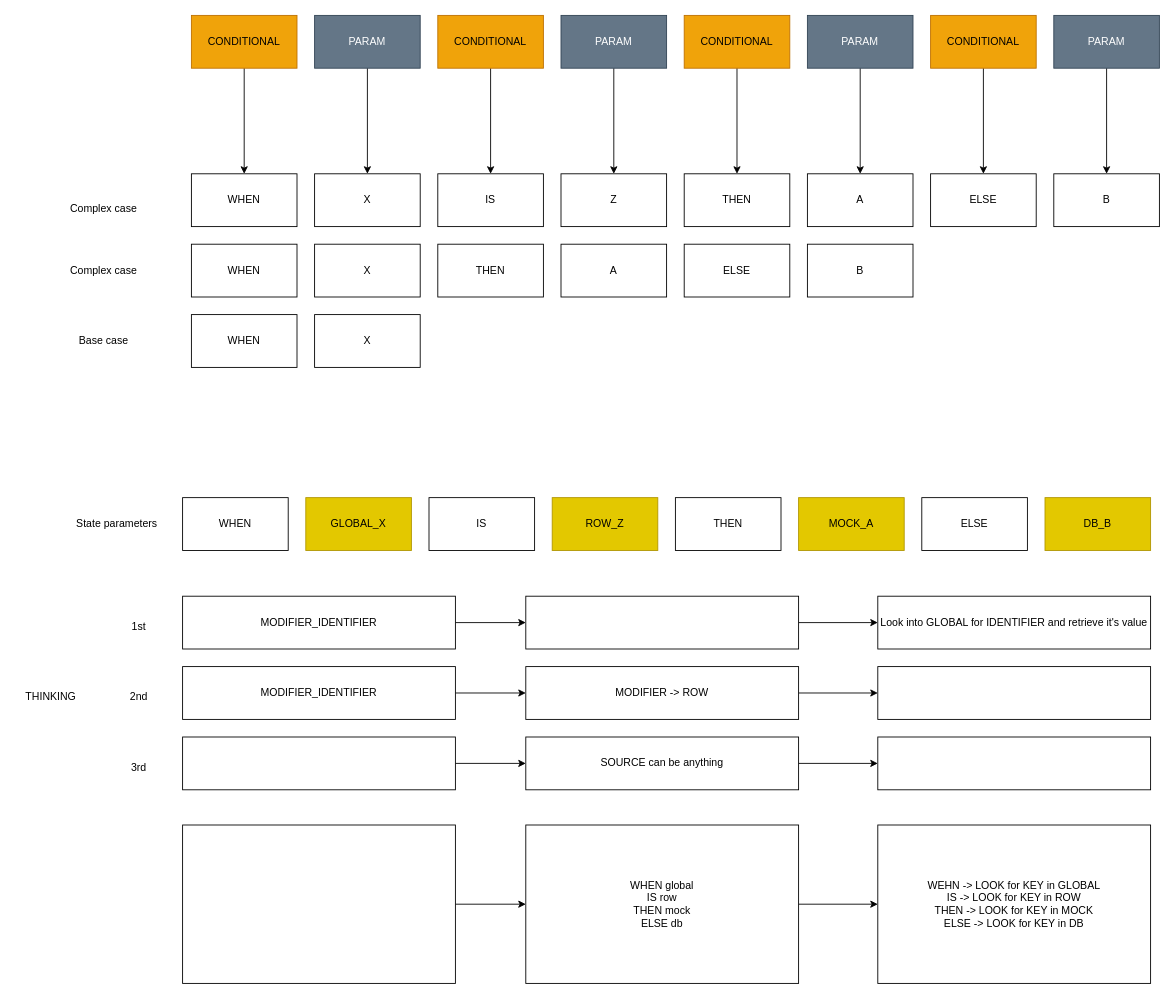
Image size: 1175x999. Some labels were removed from this diagram. Each missing label, with the box of its shape:
Look into ROW for IDENTIFIER and retrieve it's value: (877, 666, 1151, 719)
Look into SOURCE for a given KEY: (877, 736, 1151, 790)
MODIFIER -> GLOBAL: (525, 595, 799, 649)
SOURCE defines WHERE TO LOOK KEY defines WHAT I'M LOOKING FOR: (182, 824, 455, 983)
SOURCE_KEY: (182, 736, 455, 790)
